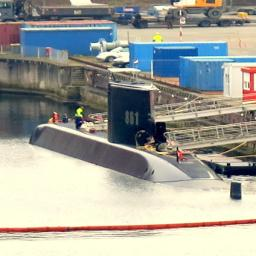submarine: (30, 83, 244, 200)
